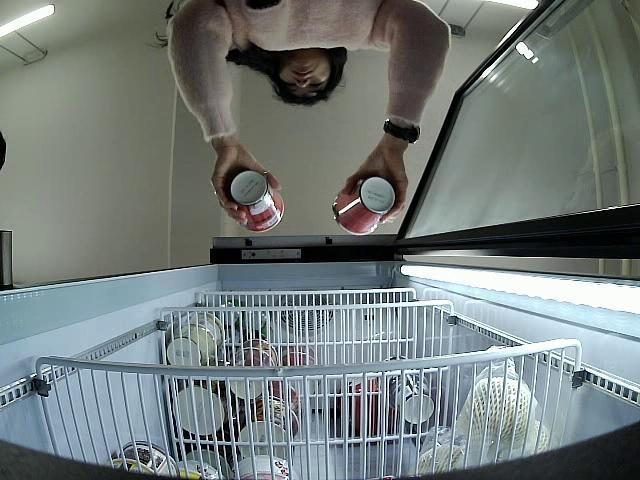02_shinRamen_S: (332, 178, 394, 235), (230, 170, 284, 232)
